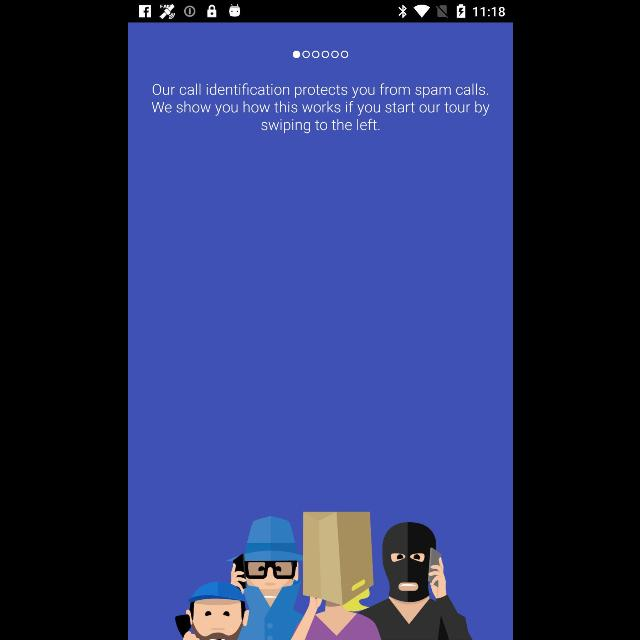image: (174, 510, 472, 640)
pageindicator: (292, 51, 348, 59)
text: (150, 84, 490, 134)
uppertaskbar: (128, 1, 512, 23)
